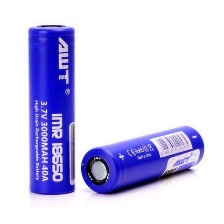battery: (79, 123, 209, 197), (24, 23, 78, 197)
